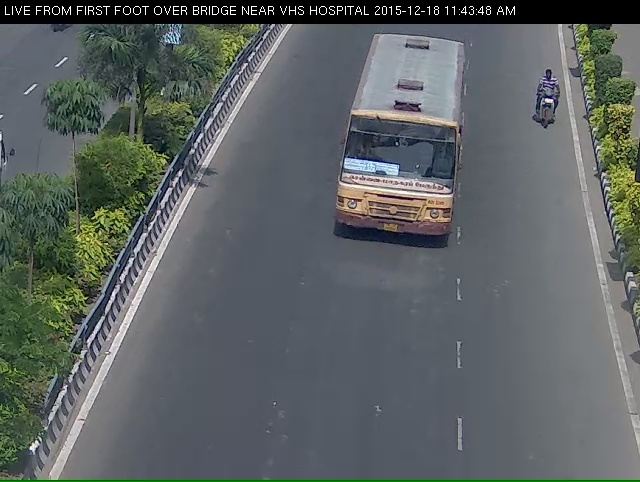Bus: (331, 37, 471, 275)
Person: (525, 56, 568, 141)
